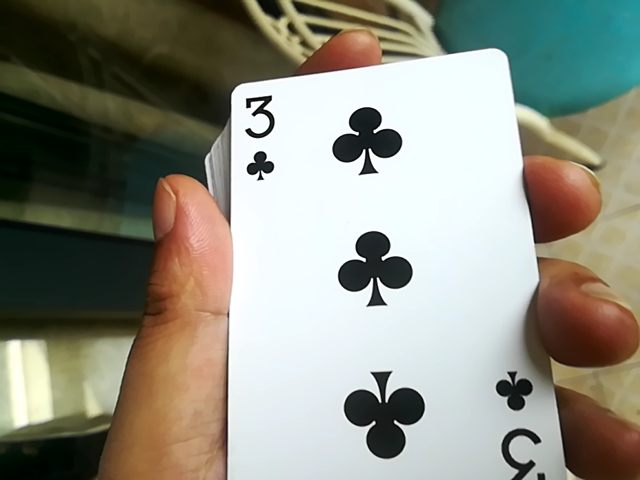mh 3: (216, 56, 544, 474)
